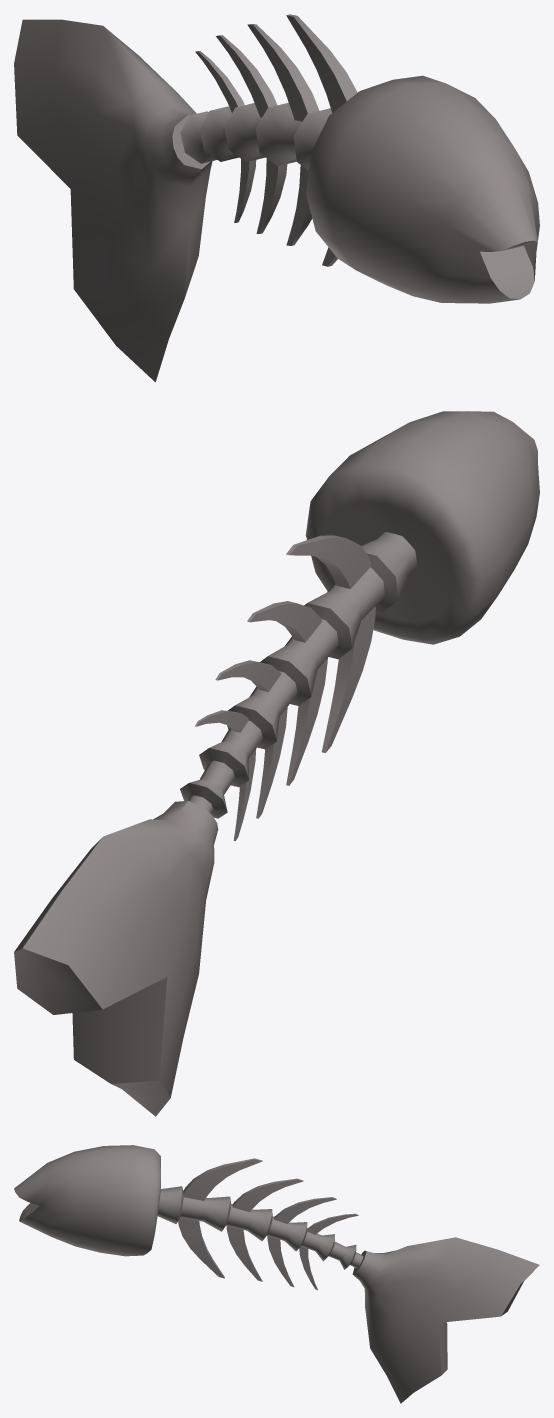
Rendered from Pez_05.fbx.
The picture shows the model from 3 angles, top to bottom: view 1: azimuth 30°, elevation 25°; view 2: azimuth 150°, elevation 25°; view 3: azimuth 270°, elevation 25°; orthographic projection. The views are drawn at different scales.
Visible parts, largest first — view 1: Pez_05; view 2: Pez_05; view 3: Pez_05.
Part boxes in pixels (left/top/right/bottom): Pez_05: left=14, top=14, right=539, bottom=382; Pez_05: left=14, top=411, right=539, bottom=1116; Pez_05: left=14, top=1145, right=539, bottom=1403.
Size of the model in its own units: 20.03 by 52.44 by 98.38.
